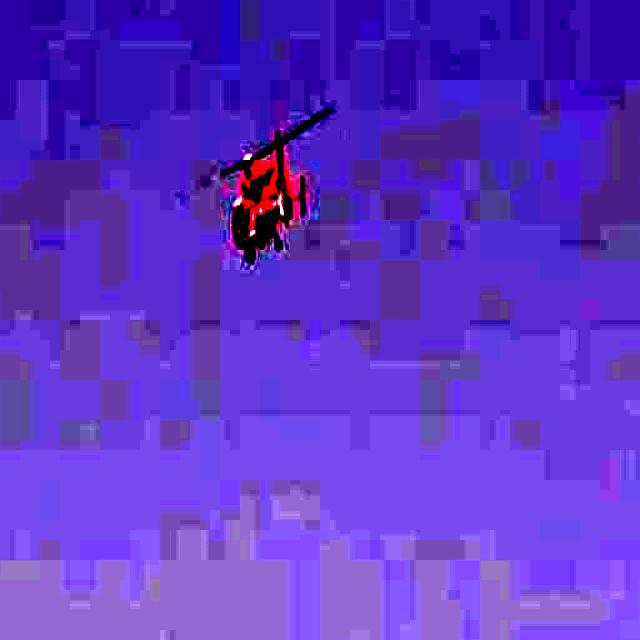drone: (156, 89, 364, 292)
